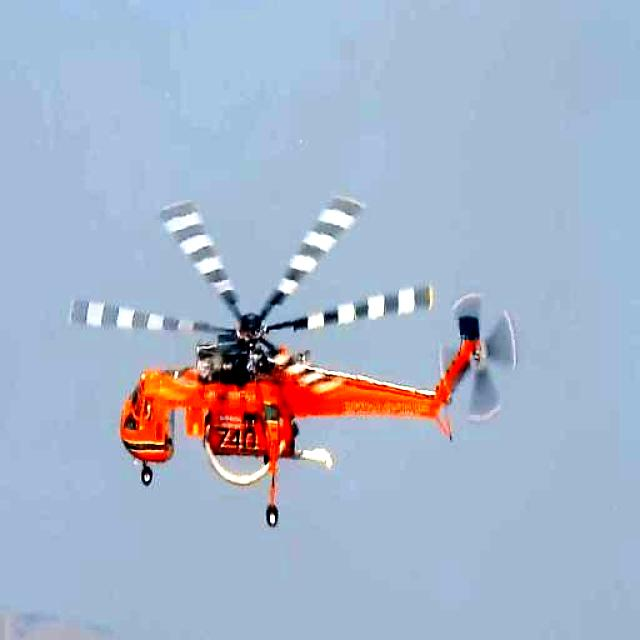drone: (70, 155, 530, 558)
